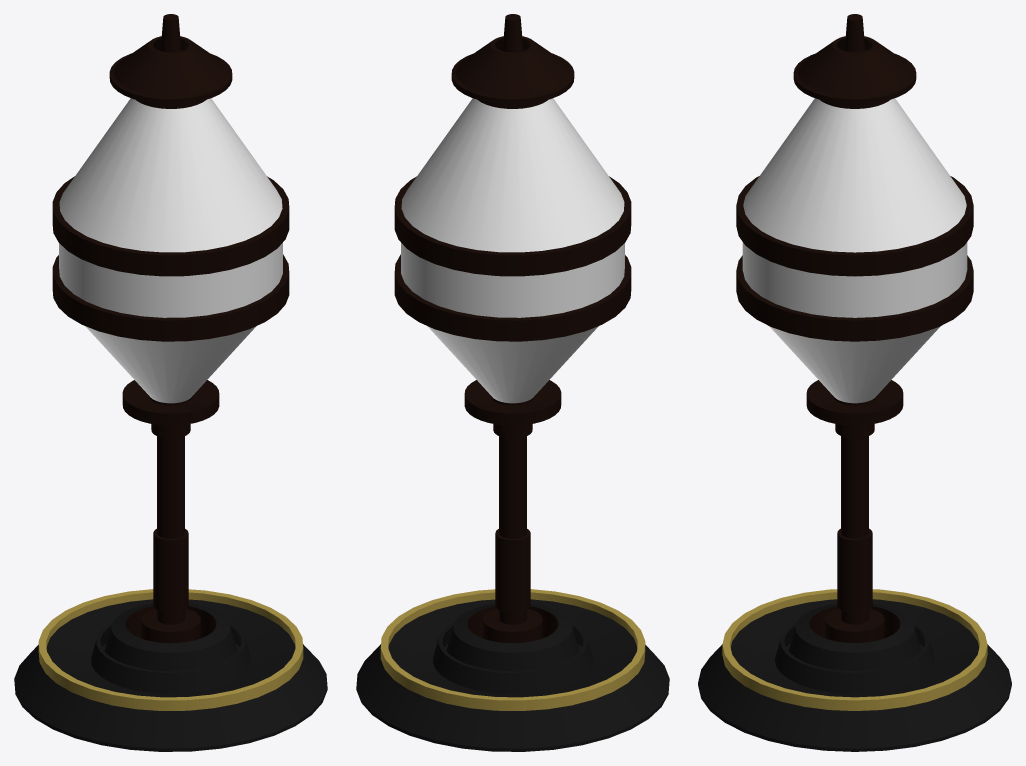
The model's file is GroundLight.fbx.
The picture shows the model from 3 angles, left to right: view 1: azimuth 30°, elevation 25°; view 2: azimuth 150°, elevation 25°; view 3: azimuth 270°, elevation 25°; orthographic projection.
Parts seen in each view (by area): view 1: GroundLight2; view 2: GroundLight2; view 3: GroundLight2.
Boxes of the visible parts, left/top/right/bottom form: GroundLight2: left=14, top=14, right=327, bottom=751; GroundLight2: left=356, top=14, right=669, bottom=751; GroundLight2: left=698, top=14, right=1011, bottom=751.
Size of the model in its own units: 124 by 292 by 124.
